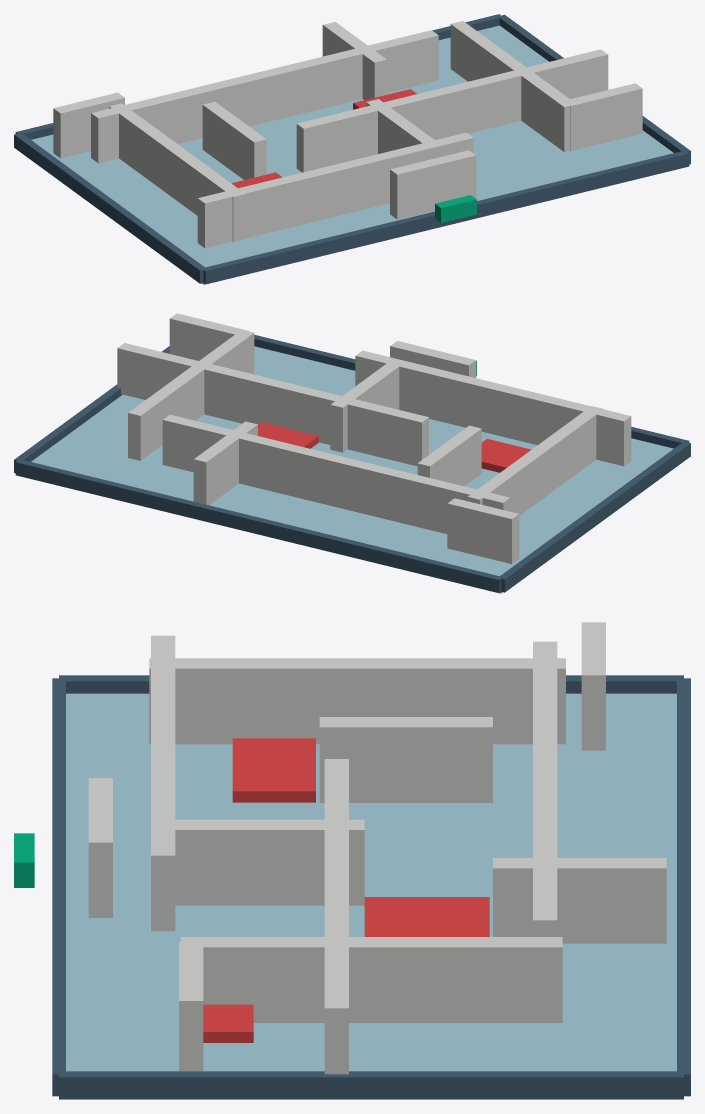
Rendered from model_plan_lisible_v2.glb.
The picture shows the model from 3 angles, top to bottom: view 1: azimuth 30°, elevation 25°; view 2: azimuth 150°, elevation 25°; view 3: azimuth 270°, elevation 25°; orthographic projection. The views are drawn at different scales.
Visible parts, largest first — view 1: dalle_bleue, mur_3, mur_2, mur_1, bord_nord, mur_4, mur_6, mur_11, bord_ouest, mur_9, mur_8, mur_10 (+5 smaller); view 2: dalle_bleue, mur_3, mur_2, mur_1, bord_sud, mur_4, mur_6, bord_ouest, mur_10, mur_7, mur_8, mur_5 (+6 smaller); view 3: dalle_bleue, mur_6, mur_4, bord_est, mur_5, mur_8, mur_7, mur_2, mur_3, mur_1, bord_sud, bord_nord (+8 smaller).
Part boxes in pixels (x1,y1,x2,y2): dalle_bleue: [31, 25, 673, 284]; mur_3: [91, 30, 438, 163]; mur_2: [296, 49, 608, 172]; mur_1: [197, 132, 473, 248]; bord_nord: [203, 150, 689, 284]; mur_4: [109, 103, 245, 241]; mur_6: [450, 21, 576, 151]; mur_11: [390, 150, 476, 219]; bord_ouest: [14, 133, 206, 283]; mur_9: [564, 83, 642, 150]; mur_8: [202, 101, 266, 179]; mur_10: [53, 92, 124, 158]; dalle_bleue: [31, 346, 673, 593]; mur_3: [162, 414, 510, 533]; mur_2: [117, 343, 428, 466]; mur_1: [355, 350, 631, 466]; bord_sud: [15, 460, 502, 592]; mur_4: [467, 406, 603, 515]; mur_6: [128, 329, 254, 460]; bord_ouest: [500, 441, 690, 592]; mur_10: [447, 498, 519, 563]; mur_7: [193, 421, 257, 505]; mur_8: [417, 425, 481, 486]; mur_5: [330, 361, 402, 452]; dalle_bleue: [59, 693, 683, 1099]; mur_6: [180, 937, 562, 1022]; mur_4: [149, 658, 565, 744]; bord_est: [59, 1071, 683, 1099]; mur_5: [156, 819, 364, 905]; mur_8: [319, 717, 492, 802]; mur_7: [493, 858, 666, 943]; mur_2: [324, 759, 348, 1074]; mur_3: [533, 641, 557, 936]; mur_1: [151, 635, 175, 931]; bord_sud: [677, 678, 690, 1096]; bord_nord: [52, 678, 65, 1096].
Bounding box in the file's own units: 1.37 × 0.145 × 0.975.
